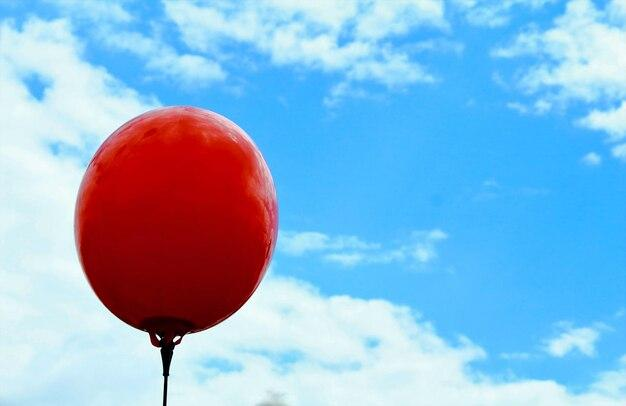red: (67, 99, 282, 349)
